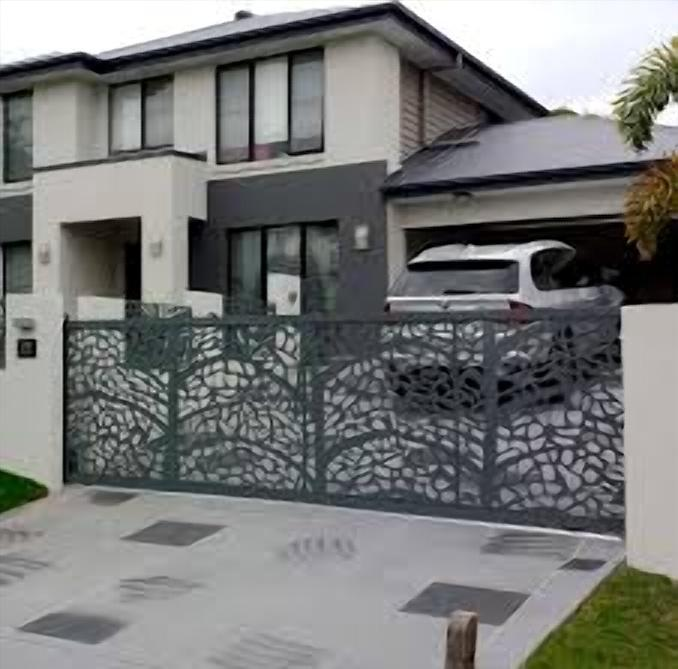Building: (0, 0, 678, 368)
Car: (379, 242, 623, 409)
Door: (266, 227, 309, 363)
Gate: (63, 306, 627, 532)
Window-without-grill: (216, 53, 323, 159), (309, 227, 347, 352), (107, 79, 172, 150), (229, 227, 265, 355), (0, 87, 31, 185), (1, 237, 30, 309)
